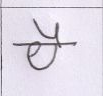ai_matra: (32, 18, 67, 42)
